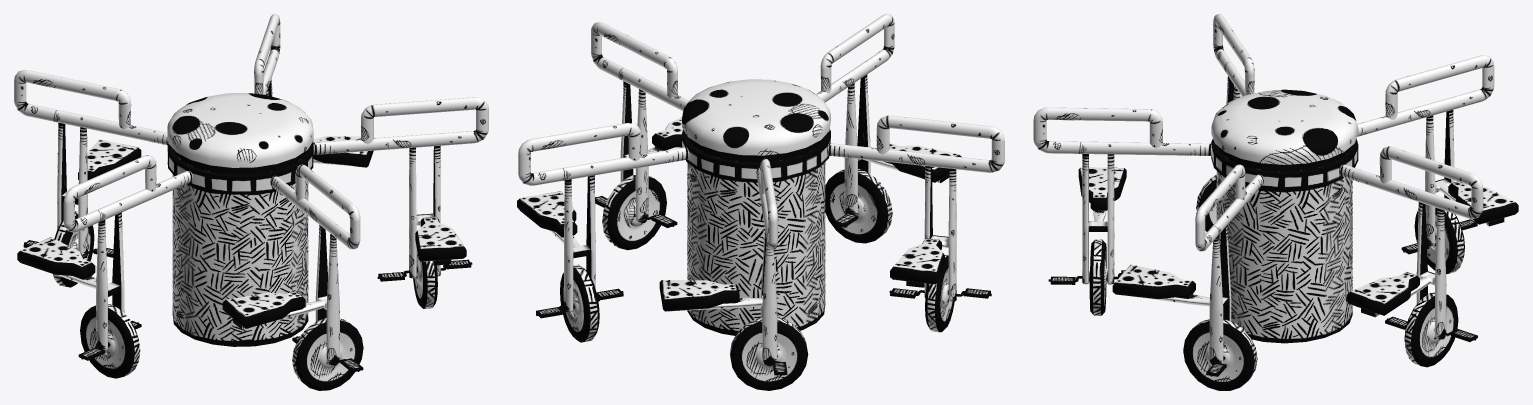
The model's file is Day24Dizzy.fbx.
3 renders of one model, left to right at view 1: azimuth 30°, elevation 25°; view 2: azimuth 150°, elevation 25°; view 3: azimuth 270°, elevation 25°, orthographic.
Parts seen in each view (by area): view 1: Cycles, CenterColumn; view 2: Cycles, CenterColumn; view 3: Cycles, CenterColumn.
Boxes of the visible parts, x1,y1,x2,y2 form: Cycles: [14, 14, 488, 390]; CenterColumn: [167, 92, 313, 346]; Cycles: [517, 14, 1004, 390]; CenterColumn: [682, 79, 830, 335]; Cycles: [1033, 14, 1518, 390]; CenterColumn: [1211, 89, 1358, 343].
Bounding box in the file's own units: 153 × 71.9 × 155.
Materials: 1 (1 with a texture image).
